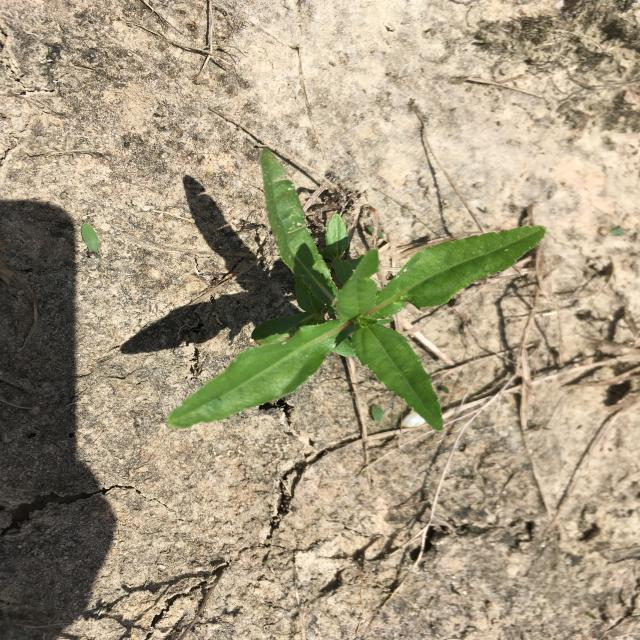Eclipta: (168, 147, 546, 432)
